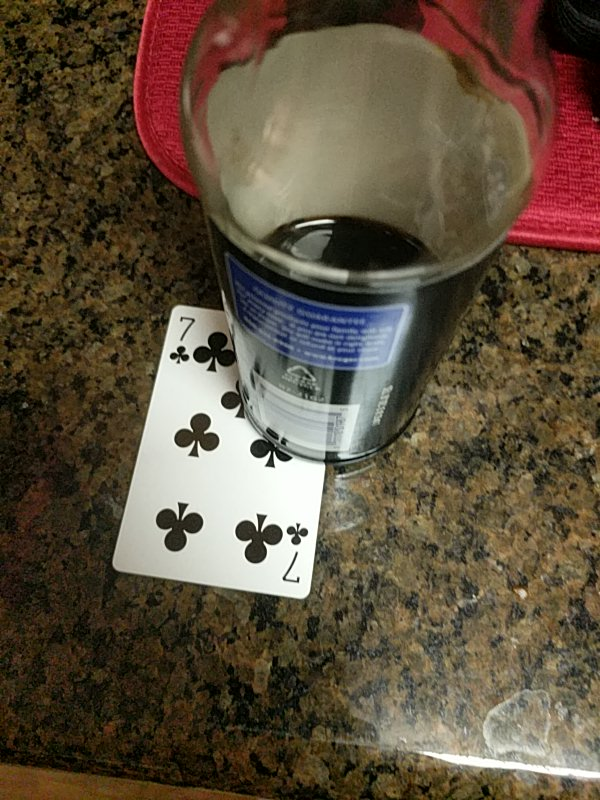Clubs: (109, 304, 337, 601)
